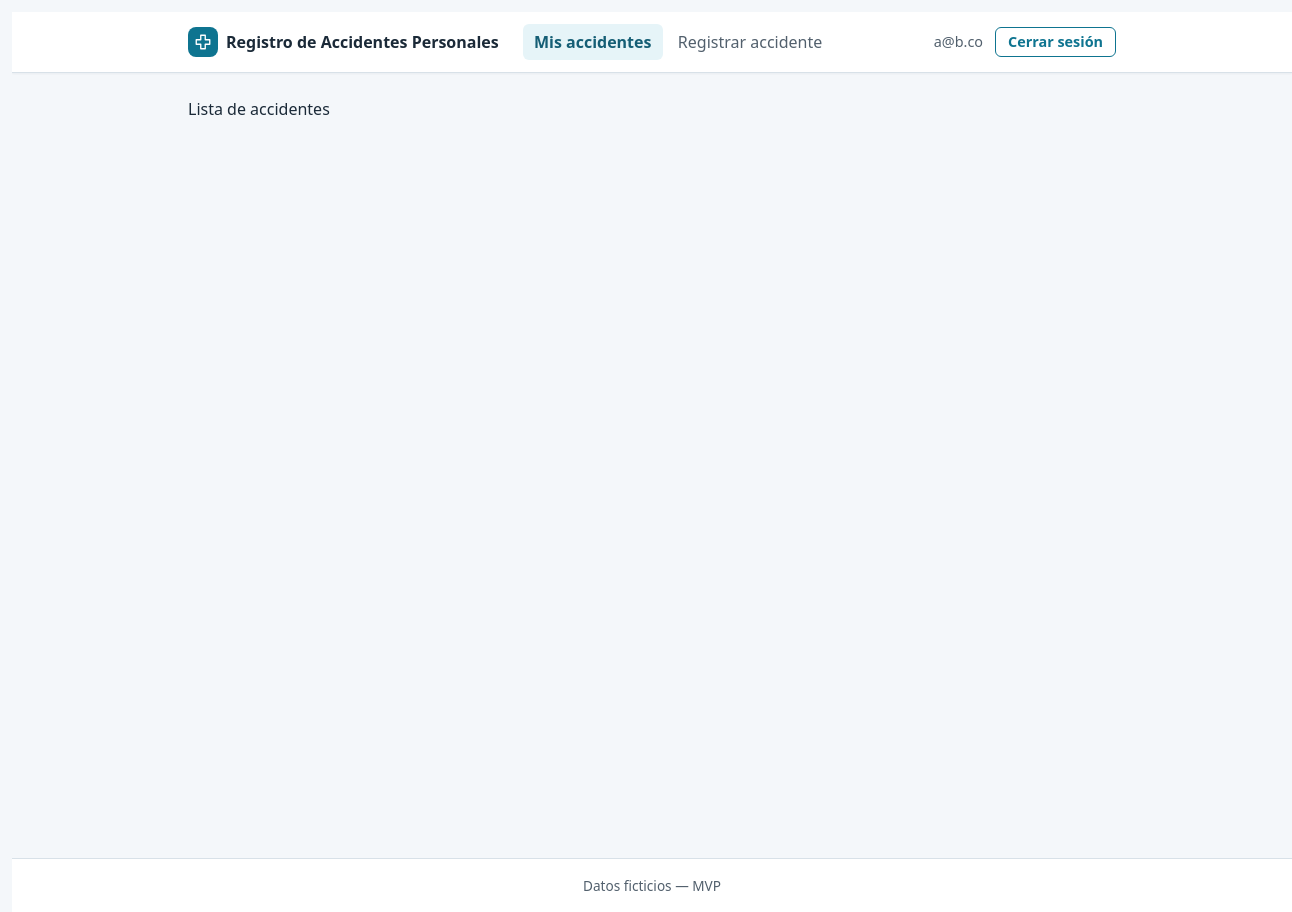
Layout y sesión › logout aunque falle la red limpia la sesión y vuelve a la landing
This screenshot has width=1292, height=912.
Click the button "Cerrar sesión" at (1056, 42), box top-left (995, 27), bottom-right (1116, 57)
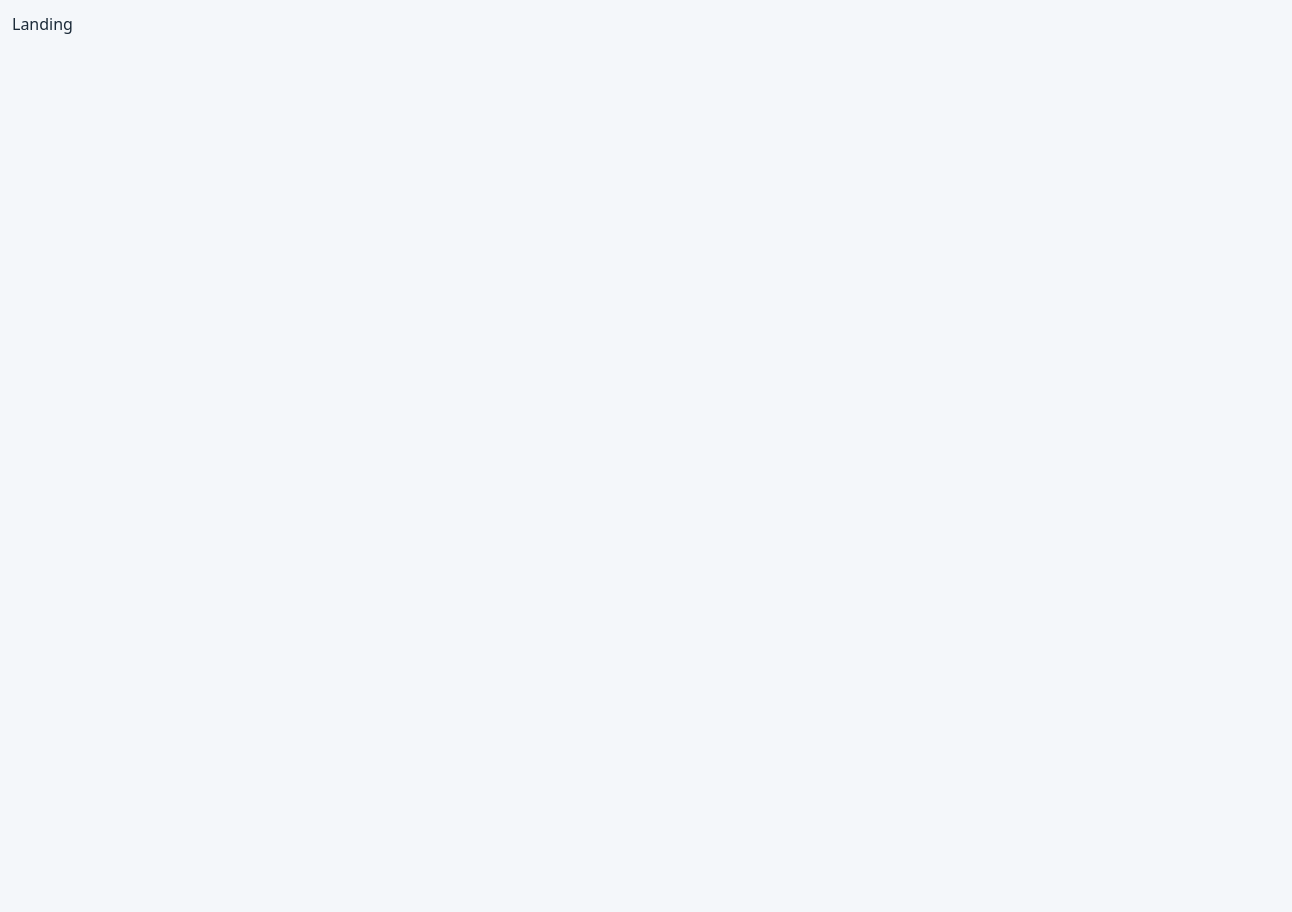
Expected: the text "Landing" is shown, top-left (12, 13), bottom-right (73, 35)
